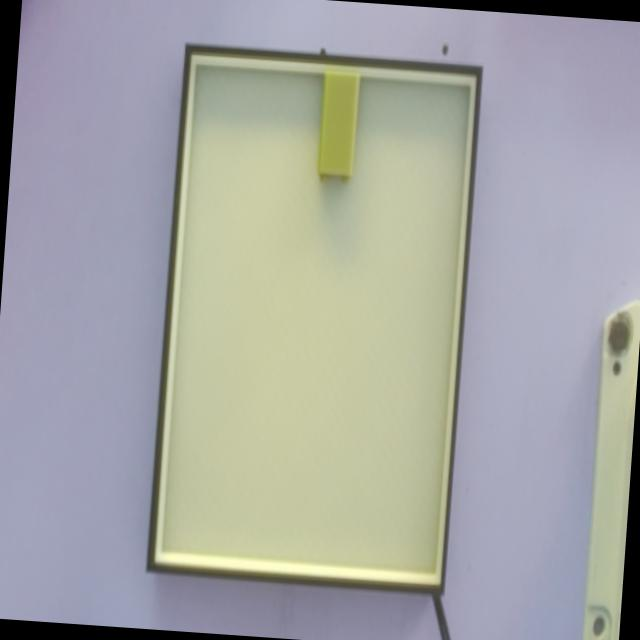bateria: (315, 74, 360, 185)
mesa: (146, 44, 482, 597)
